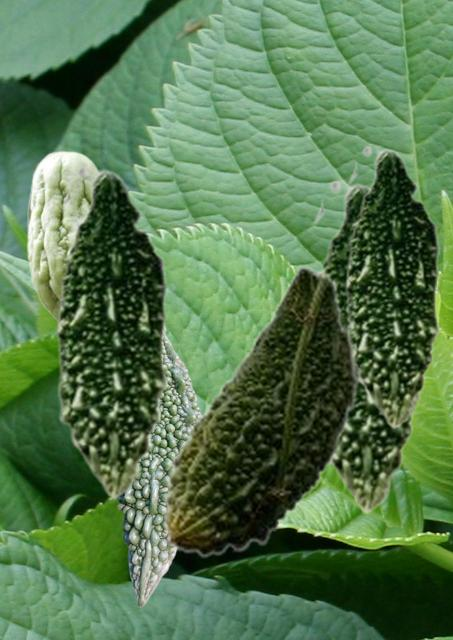ampalaya: (162, 265, 359, 557), (55, 164, 175, 501), (309, 178, 424, 515), (344, 144, 446, 430), (116, 327, 200, 606), (26, 150, 97, 320)
